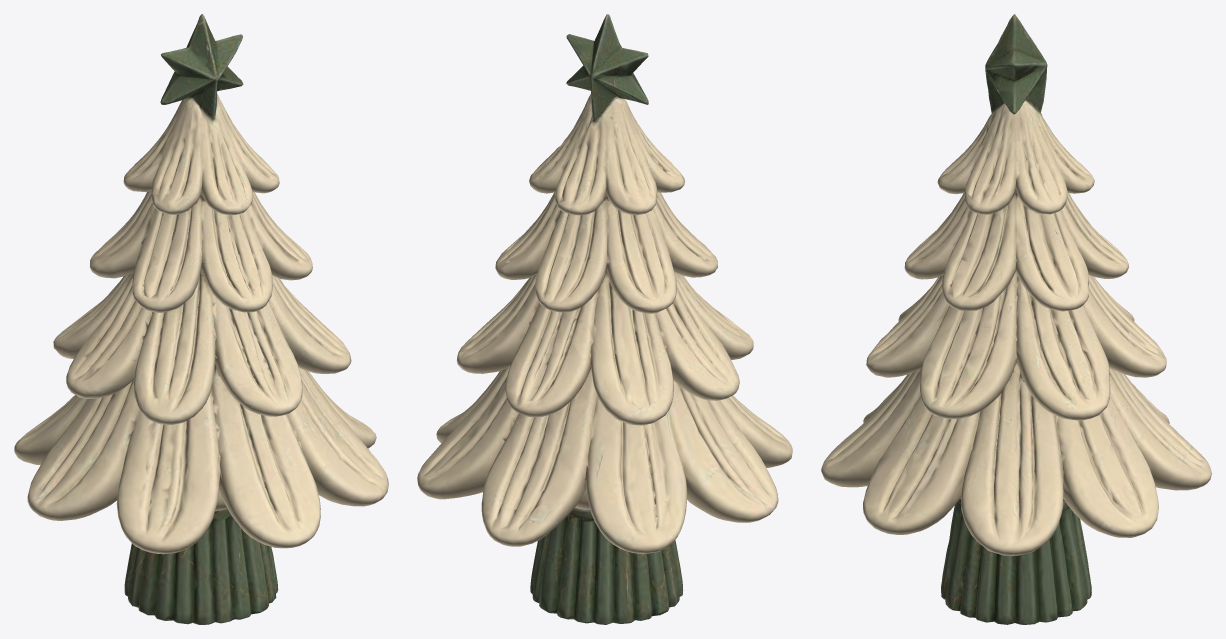
The picture shows the model from 3 angles, left to right: view 1: azimuth 30°, elevation 25°; view 2: azimuth 150°, elevation 25°; view 3: azimuth 270°, elevation 25°; orthographic projection.
Size of the model in its own units: 1.14 by 1.9 by 1.16.
Materials: 1 (1 with a texture image).
